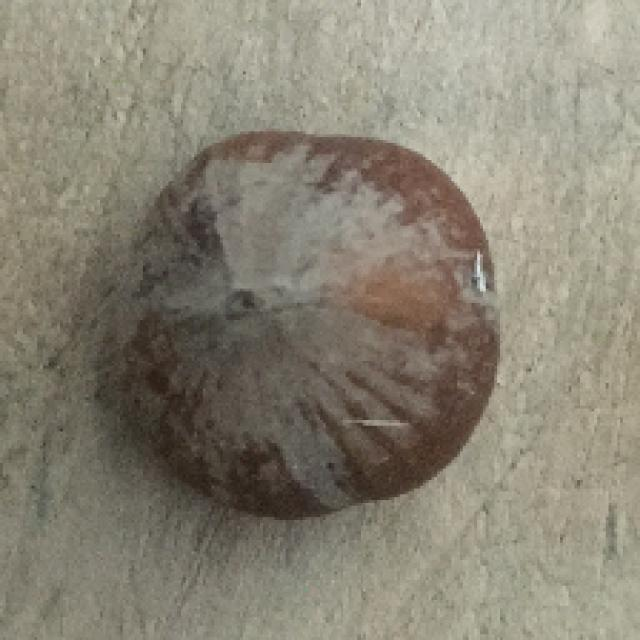qualityHazelnut: (101, 121, 509, 531)
